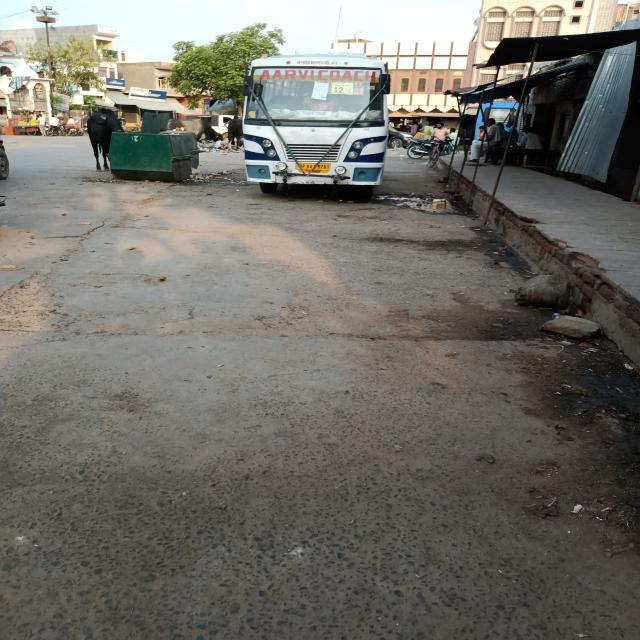Bus: (240, 51, 392, 198)
